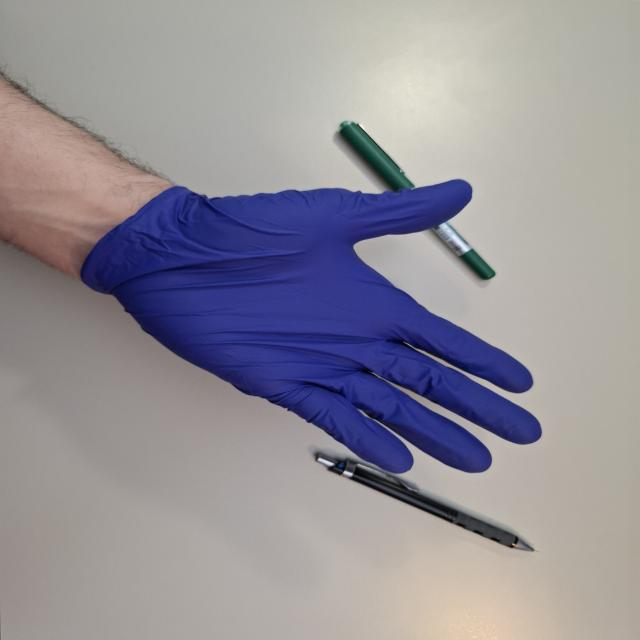glove_on: (78, 174, 546, 477)
